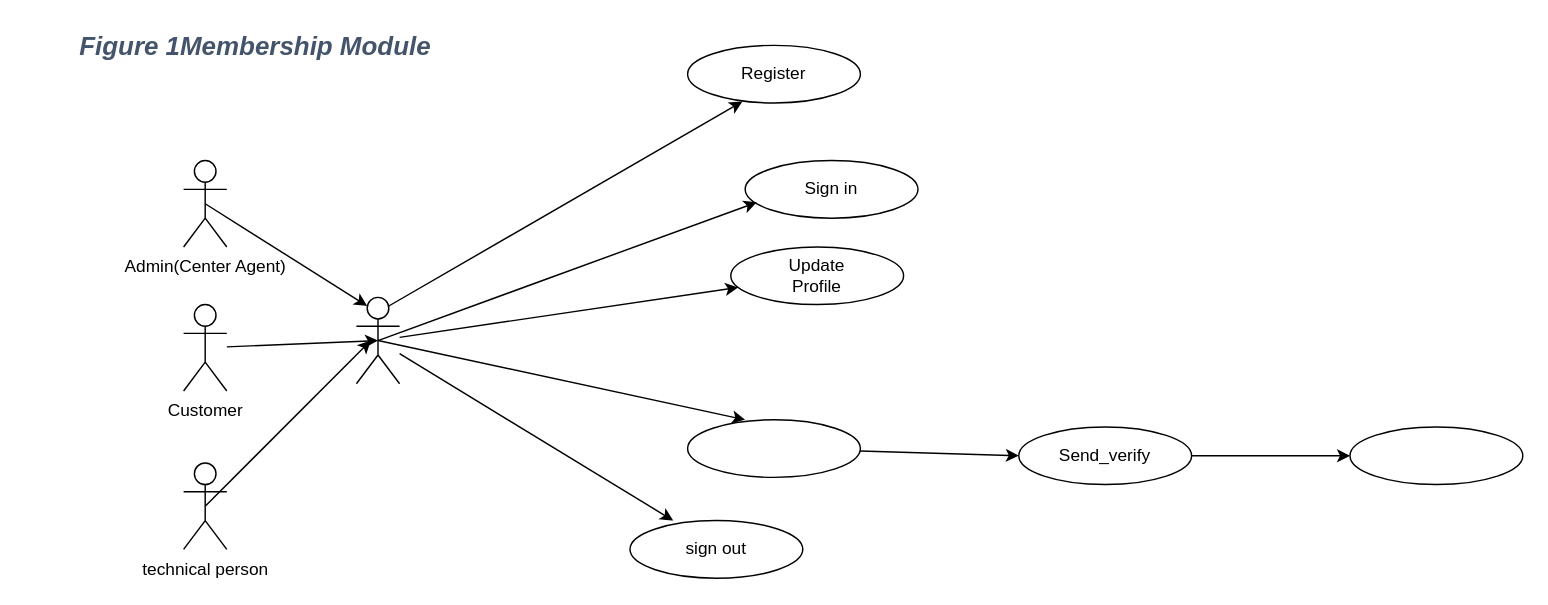
This 1548x605 diagram has some shape labels left out. The centre of each missing label's shape, as x and y in pixels:
"Add otp" goes at point 1436,455.
"Reset Password" goes at point 773,447.
"User" goes at point 377,340.
